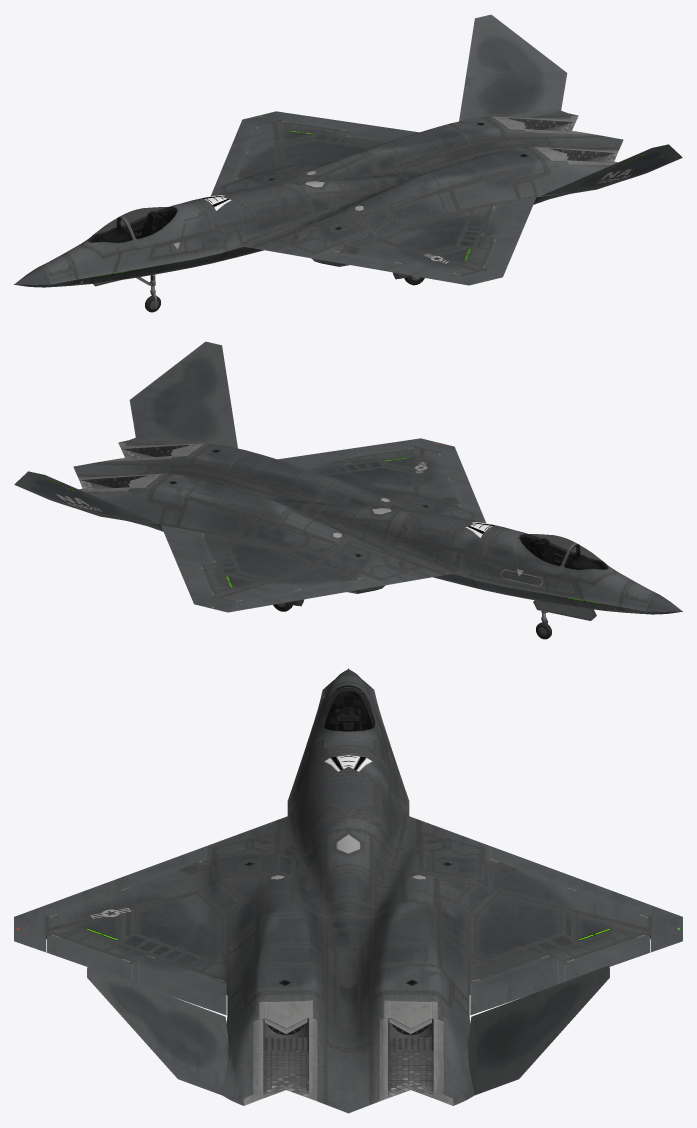
3 renders of one model, top to bottom at view 1: azimuth 30°, elevation 25°; view 2: azimuth 150°, elevation 25°; view 3: azimuth 270°, elevation 25°, orthographic. The views are drawn at different scales.
Parts seen in each view (by area): view 1: F23A_Hull_LOD0_23, F23A_Driver_R_LOD0_29, F23A_Driver_L_LOD0_25, F23A_Slats_L_LOD0_26, F23A_Flaps_L_LOD0_16, F23A_Frame_LOD0_24, F23A_Glass_LOD0_32, F23A_Slats_R_LOD0_8, F23A_Eleron_L_LOD0_11, F23A_Glass_02_LOD0_13, F23A_Eleron_R_LOD0_40, F23A_Flaps_R_LOD0_28; view 2: F23A_Hull_LOD0_23, F23A_Driver_L_LOD0_25, F23A_Driver_R_LOD0_29, F23A_Slats_R_LOD0_8, F23A_Flaps_R_LOD0_28, F23A_Frame_LOD0_24, F23A_Glass_LOD0_32, F23A_Slats_L_LOD0_26, F23A_Eleron_R_LOD0_40, F23A_Glass_02_LOD0_13, F23A_Hatch_Front_LOD0_2, F23A_Eleron_L_LOD0_11 (+1 smaller); view 3: F23A_Hull_LOD0_23, F23A_Driver_L_LOD0_25, F23A_Driver_R_LOD0_29, F23A_Flaps_L_LOD0_16, F23A_Flaps_R_LOD0_28, F23A_Slats_R_LOD0_8, F23A_Slats_L_LOD0_26, F23A_Glass_LOD0_32, F23A_Eleron_L_LOD0_11, F23A_Eleron_R_LOD0_40, F23A_Frame_LOD0_24, F23A_Engine_L_01_LOD0_21 (+1 smaller).
Boxes of the visible parts, bbox=[...] form: F23A_Hull_LOD0_23: bbox=[14, 110, 623, 287]; F23A_Driver_R_LOD0_29: bbox=[459, 14, 567, 121]; F23A_Driver_L_LOD0_25: bbox=[540, 144, 682, 196]; F23A_Slats_L_LOD0_26: bbox=[310, 251, 459, 280]; F23A_Flaps_L_LOD0_16: bbox=[484, 198, 535, 237]; F23A_Frame_LOD0_24: bbox=[119, 203, 198, 247]; F23A_Glass_LOD0_32: bbox=[121, 207, 177, 238]; F23A_Slats_R_LOD0_8: bbox=[214, 126, 255, 187]; F23A_Eleron_L_LOD0_11: bbox=[485, 233, 521, 269]; F23A_Glass_02_LOD0_13: bbox=[88, 217, 132, 242]; F23A_Eleron_R_LOD0_40: bbox=[282, 115, 374, 130]; F23A_Flaps_R_LOD0_28: bbox=[346, 126, 418, 141]; F23A_Hull_LOD0_23: bbox=[73, 437, 682, 614]; F23A_Driver_L_LOD0_25: bbox=[129, 341, 237, 448]; F23A_Driver_R_LOD0_29: bbox=[14, 471, 156, 523]; F23A_Slats_R_LOD0_8: bbox=[237, 578, 386, 607]; F23A_Flaps_R_LOD0_28: bbox=[161, 525, 212, 564]; F23A_Frame_LOD0_24: bbox=[498, 530, 577, 574]; F23A_Glass_LOD0_32: bbox=[519, 534, 575, 565]; F23A_Slats_L_LOD0_26: bbox=[441, 453, 482, 514]; F23A_Eleron_R_LOD0_40: bbox=[175, 560, 211, 596]; F23A_Glass_02_LOD0_13: bbox=[564, 544, 608, 569]; F23A_Hatch_Front_LOD0_2: bbox=[533, 600, 596, 620]; F23A_Eleron_L_LOD0_11: bbox=[322, 442, 414, 457]; F23A_Hull_LOD0_23: bbox=[14, 668, 682, 1113]; F23A_Driver_L_LOD0_25: bbox=[87, 965, 228, 1095]; F23A_Driver_R_LOD0_29: bbox=[468, 965, 609, 1095]; F23A_Flaps_L_LOD0_16: bbox=[138, 956, 226, 1015]; F23A_Flaps_R_LOD0_28: bbox=[470, 956, 558, 1015]; F23A_Slats_R_LOD0_8: bbox=[490, 846, 650, 916]; F23A_Slats_L_LOD0_26: bbox=[46, 846, 206, 916]; F23A_Glass_LOD0_32: bbox=[322, 687, 374, 731]; F23A_Eleron_L_LOD0_11: bbox=[46, 935, 132, 981]; F23A_Eleron_R_LOD0_40: bbox=[564, 935, 650, 981]; F23A_Frame_LOD0_24: bbox=[311, 687, 385, 750]; F23A_Engine_L_01_LOD0_21: bbox=[265, 1001, 307, 1034].
Bounding box in the file's own units: 0.0306 × 0.00616 × 0.0197.
2 materials, 1 textured.
